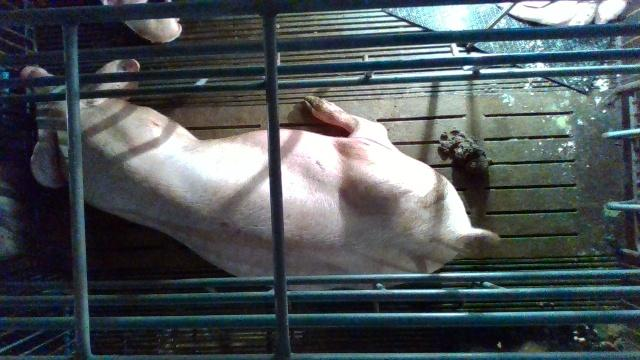sow-sit: (20, 58, 501, 292)
